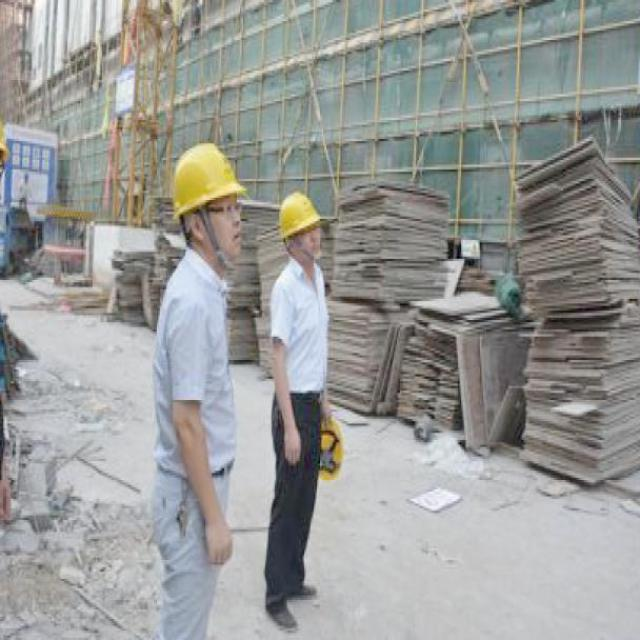helmet: (164, 110, 243, 276), (269, 189, 336, 282)
